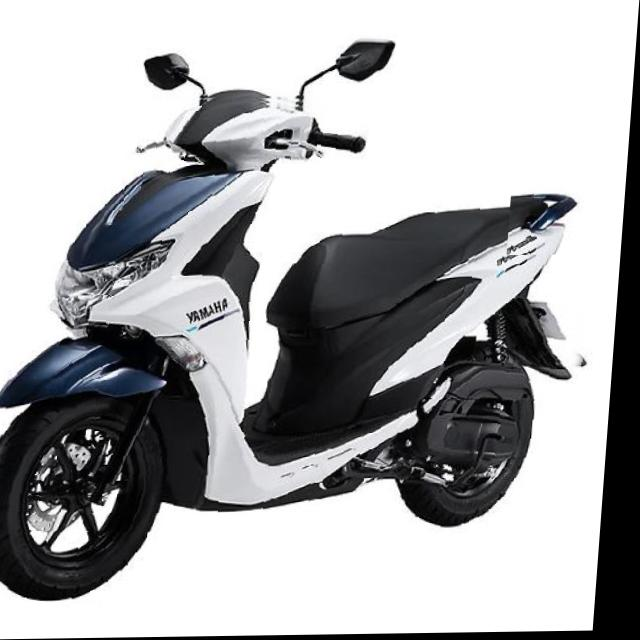All: (0, 90, 617, 603)
Head: (136, 94, 377, 167)
Tail: (511, 185, 588, 257)
